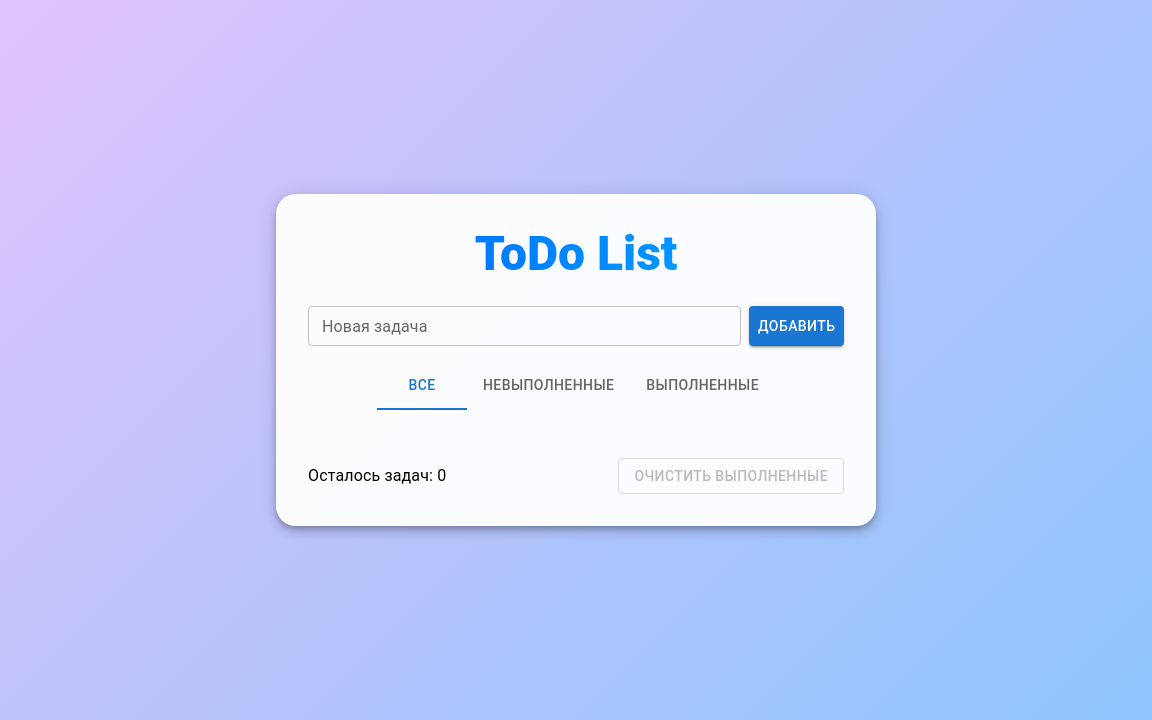
it: ToDo App functionality › filters active and completed todos
Type "Active task" into the field labelled "Новая задача".
click(525, 326); type("Active task")  # box [308, 306, 742, 346]
Click the button "Добавить".
click(797, 326)  # box [750, 306, 844, 346]
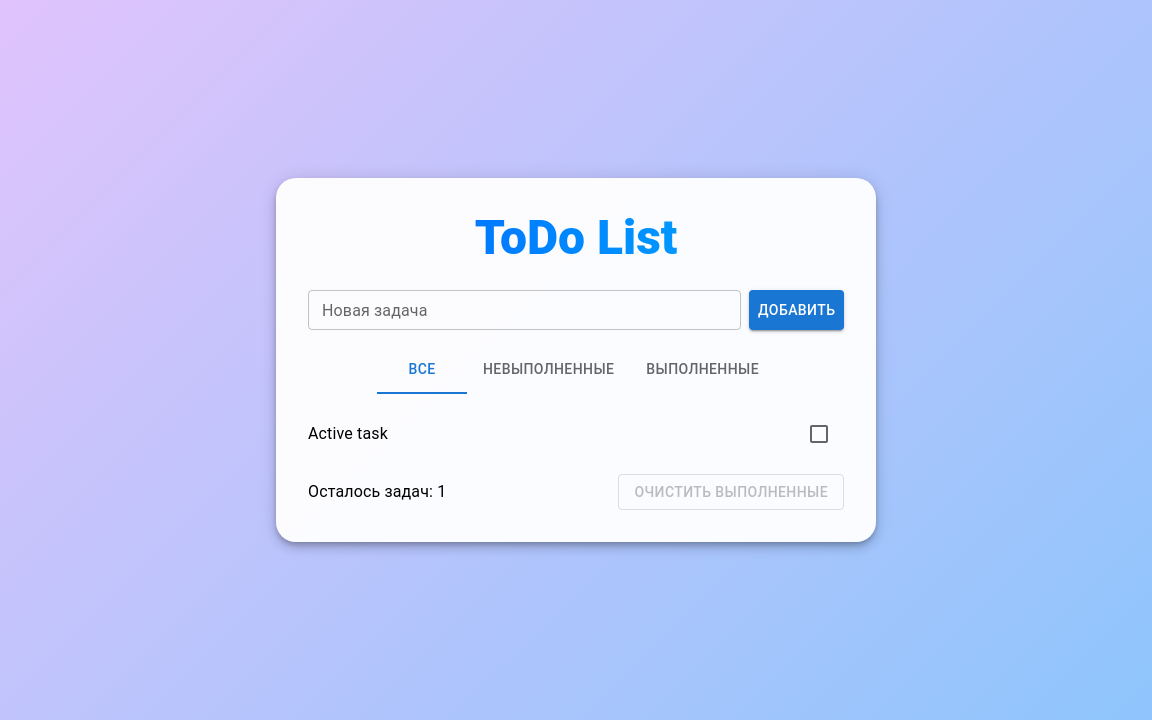
Type "Done task" into the field labelled "Новая задача".
click(525, 310); type("Done task")  # box [308, 290, 742, 330]
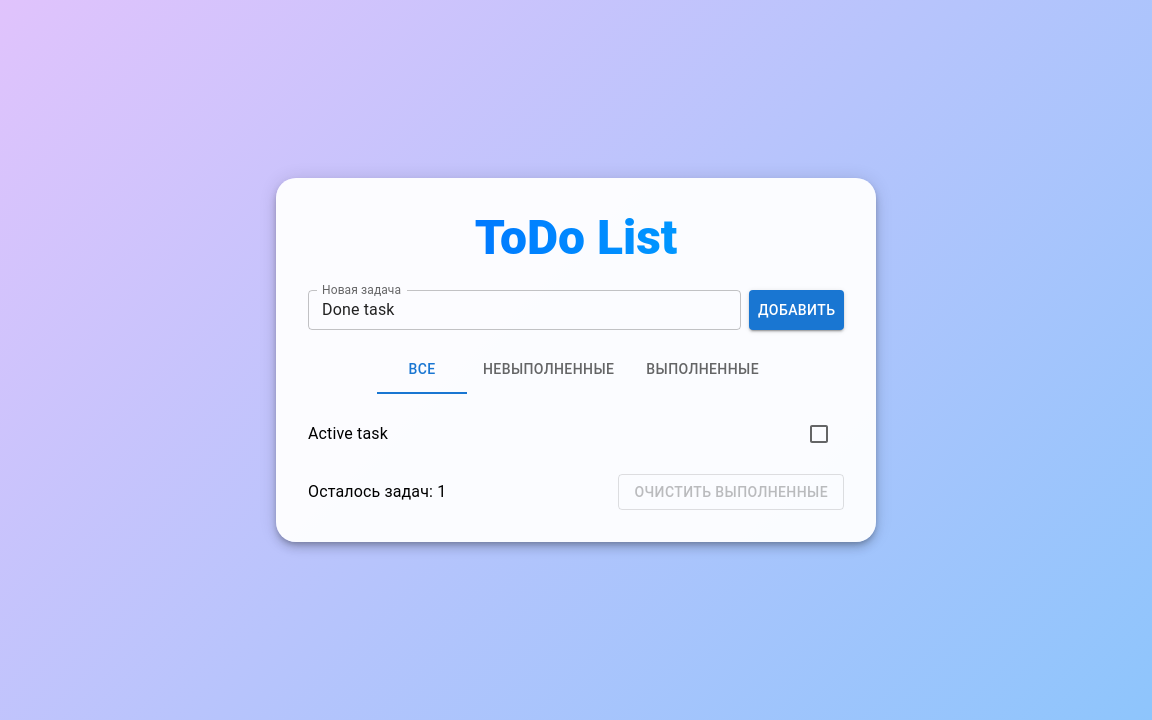
Click the button "Добавить".
click(797, 310)  # box [750, 290, 844, 330]
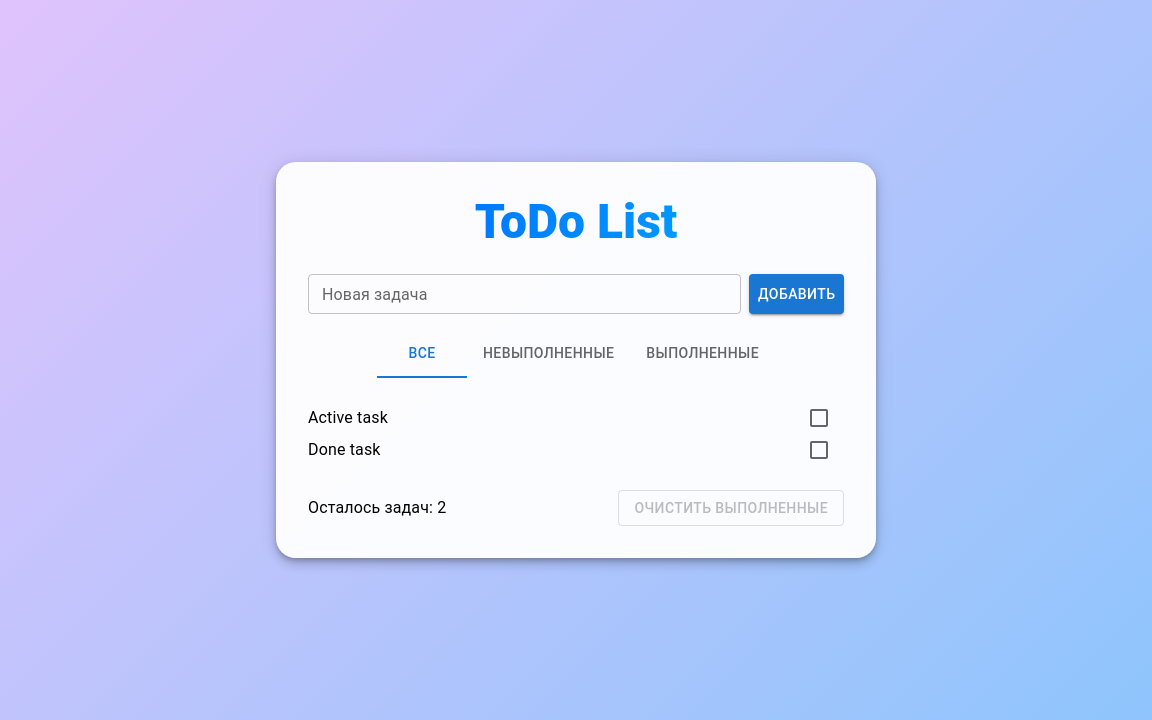
mark second as completed
Click the checkbox in the row of "Done task".
click(819, 450)  # box [807, 438, 831, 462]
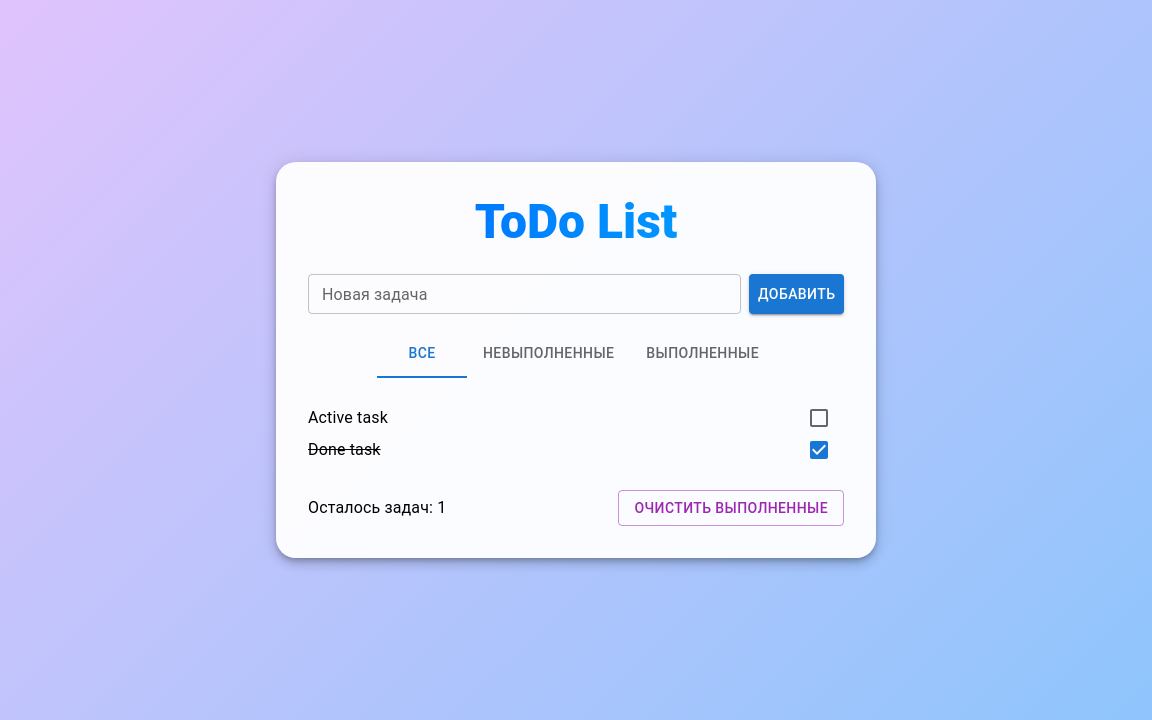
filter active (Tab index 1)
Click the tab "Невыполненные".
click(549, 354)  # box [467, 330, 630, 378]
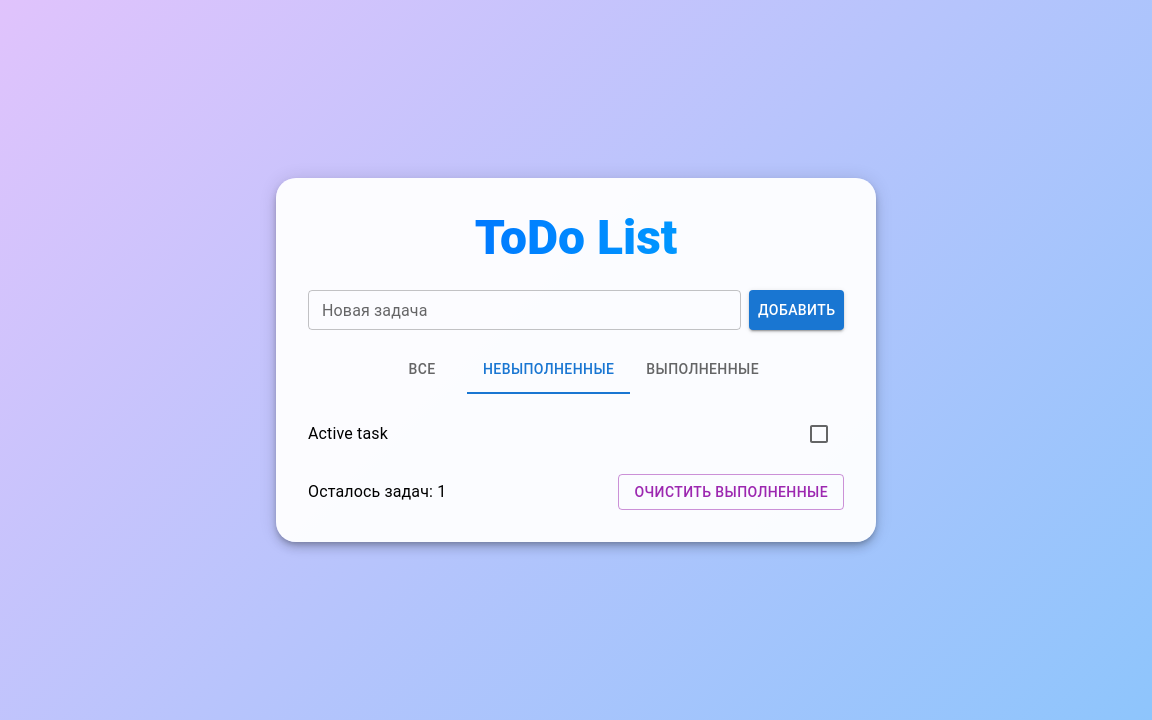
Check: the text "Active task" is shown, box [308, 424, 388, 443]
Check: the text "Done task" is gone
filter completed (Tab index 2)
Click the tab "Выполненные".
click(703, 370)  # box [630, 346, 775, 394]
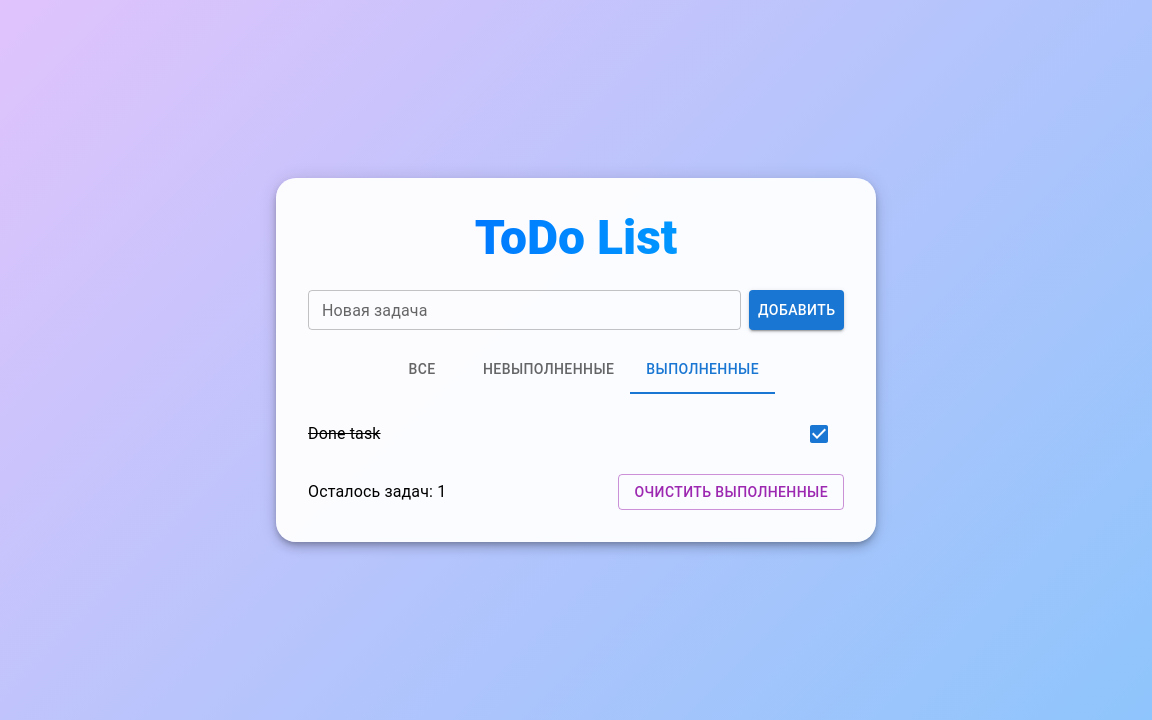
Check: the text "Done task" is shown, box [308, 424, 381, 443]
Check: the text "Active task" is gone
